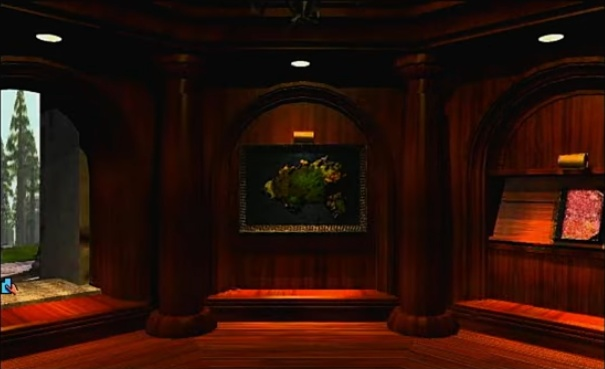Keep: (0, 274, 19, 296)
